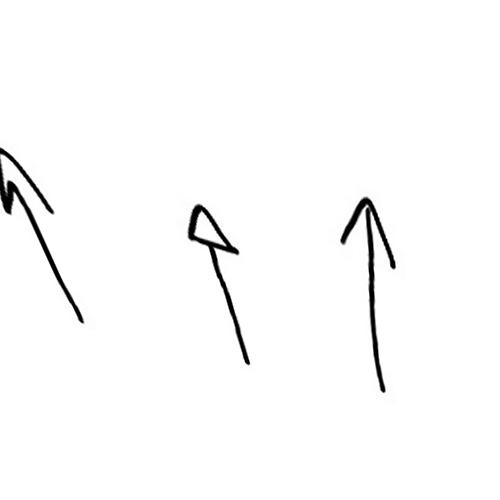arrow: (1, 146, 88, 323), (339, 193, 397, 394), (180, 201, 250, 361)
